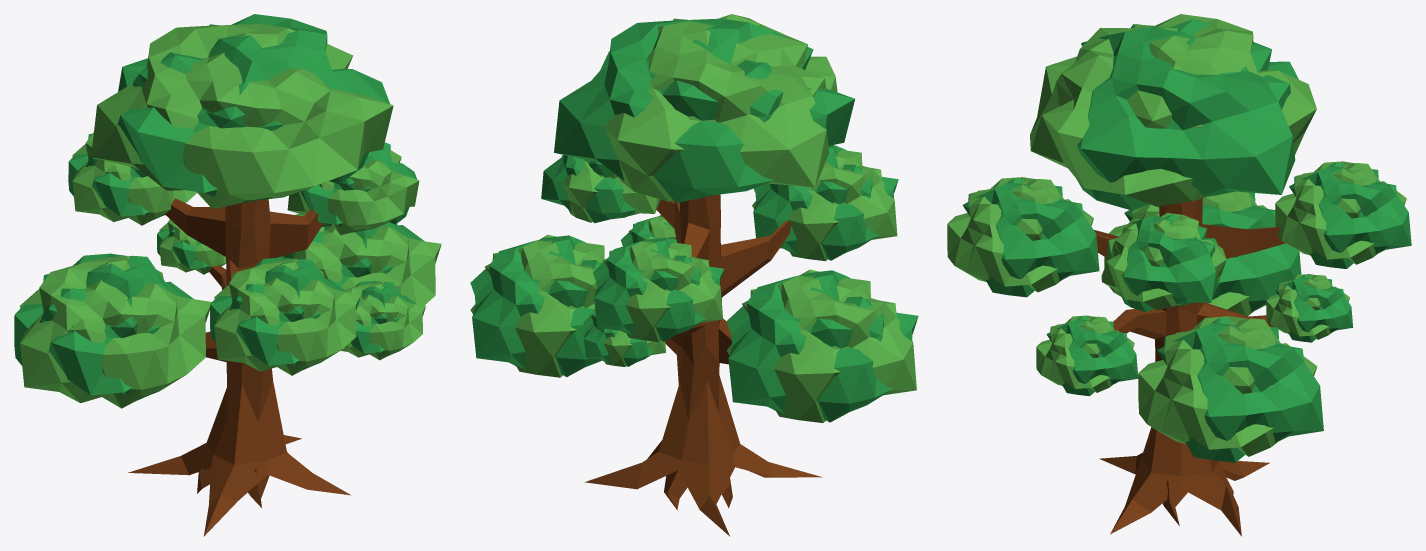
Rendered from branched tree.fbx.
The picture shows the model from 3 angles, left to right: view 1: azimuth 30°, elevation 25°; view 2: azimuth 150°, elevation 25°; view 3: azimuth 270°, elevation 25°; orthographic projection.
Parts seen in each view (by area): view 1: bush1.007, stomp, bush1.002, bush2.007, bush1.003, bush2.002, bush1.001, bush1.006, bush2.003, bush1.005, bush1.004, bush2.005 (+5 smaller); view 2: bush1.007, bush2.007, stomp, bush2.002, bush1.002, bush2.001, bush1.001, bush2.005, bush2.003, bush1.003, bush1.005, bush2.006 (+4 smaller); view 3: bush2.007, bush1.007, stomp, bush2.001, bush1.001, bush2.003, bush1.003, bush2.005, bush2.006, bush1.005, bush2.002, bush1.006 (+5 smaller).
Part boxes in pixels (bbox=[...]): bush1.007: bbox=[91, 24, 393, 208]; stomp: bbox=[128, 198, 350, 536]; bush1.002: bbox=[20, 255, 211, 408]; bush2.007: bbox=[117, 14, 389, 203]; bush1.003: bbox=[214, 259, 361, 375]; bush2.002: bbox=[14, 253, 193, 400]; bush1.001: bbox=[281, 214, 441, 305]; bush1.006: bbox=[287, 150, 419, 235]; bush2.003: bbox=[210, 257, 346, 369]; bush1.005: bbox=[72, 132, 196, 225]; bush1.004: bbox=[340, 282, 425, 360]; bush2.005: bbox=[68, 133, 164, 219]; bush1.007: bbox=[604, 14, 837, 201]; bush2.007: bbox=[554, 18, 854, 203]; stomp: bbox=[585, 194, 822, 536]; bush2.002: bbox=[726, 270, 918, 422]; bush1.002: bbox=[726, 269, 916, 422]; bush2.001: bbox=[470, 235, 601, 377]; bush1.001: bbox=[470, 234, 604, 377]; bush2.005: bbox=[593, 237, 723, 341]; bush2.003: bbox=[753, 145, 898, 260]; bush1.003: bbox=[752, 150, 897, 261]; bush1.005: bbox=[593, 237, 723, 341]; bush2.006: bbox=[541, 155, 636, 223]; bush2.007: bbox=[1076, 19, 1298, 210]; bush1.007: bbox=[1030, 14, 1316, 206]; stomp: bbox=[1094, 198, 1285, 536]; bush2.001: bbox=[1157, 317, 1323, 462]; bush1.001: bbox=[1138, 316, 1317, 456]; bush2.003: bbox=[962, 178, 1099, 297]; bush1.003: bbox=[947, 177, 1093, 292]; bush2.005: bbox=[1289, 162, 1411, 268]; bush2.006: bbox=[1119, 214, 1217, 312]; bush1.005: bbox=[1275, 161, 1406, 264]; bush2.002: bbox=[1124, 192, 1301, 311]; bush1.006: bbox=[1101, 213, 1226, 310].
Size of the model in its own units: 1068 by 1117 by 1005.
